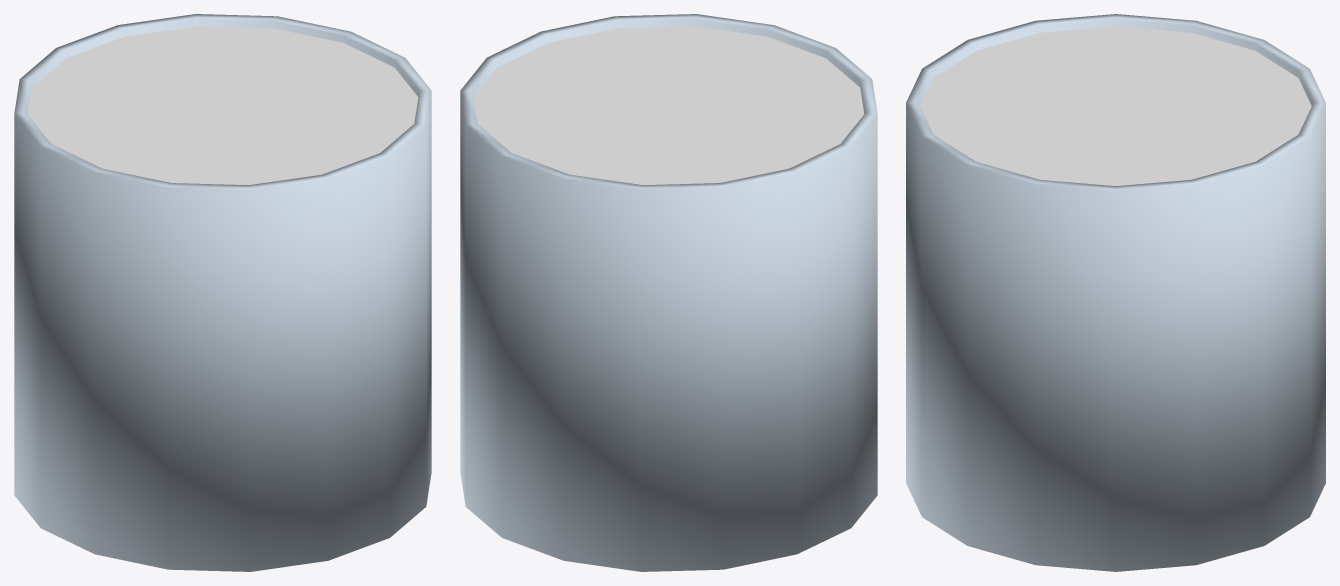
File: glass2.fbx
The picture shows the model from 3 angles, left to right: view 1: azimuth 30°, elevation 25°; view 2: azimuth 150°, elevation 25°; view 3: azimuth 270°, elevation 25°; orthographic projection.
Parts seen in each view (by area): view 1: glass2, liquid2; view 2: glass2, liquid2; view 3: glass2, liquid2.
Boxes of the visible parts, x1,y1,x2,y2 form: glass2: (14,14,431,571); liquid2: (27,26,418,184); glass2: (460,14,877,571); liquid2: (473,26,864,184); glass2: (906,14,1325,571); liquid2: (920,26,1311,185).
Size of the model in its own units: 170 by 170 by 170.
